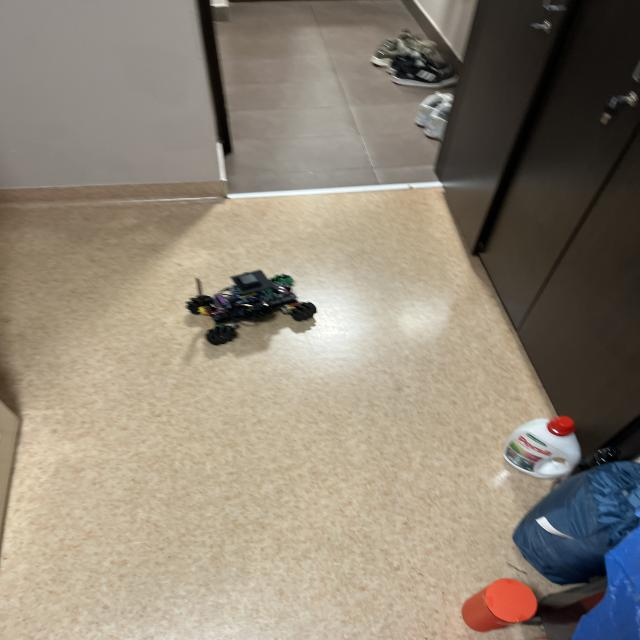robot: (186, 270, 317, 345)
